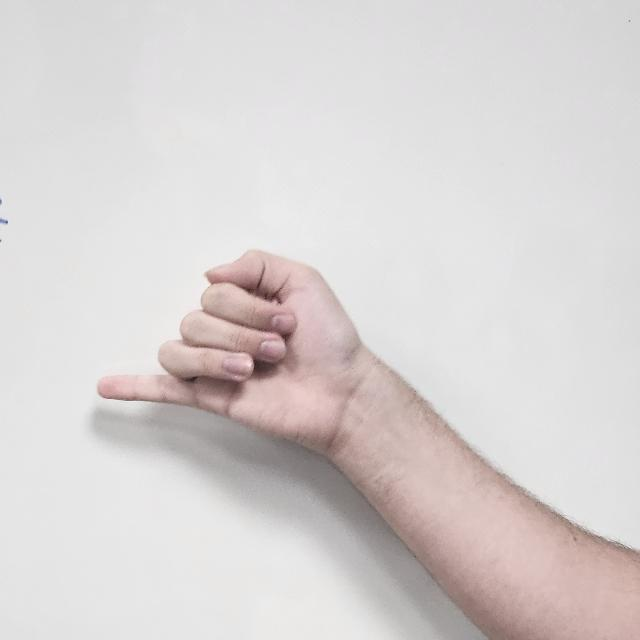Esquerda: (81, 200, 376, 480)
